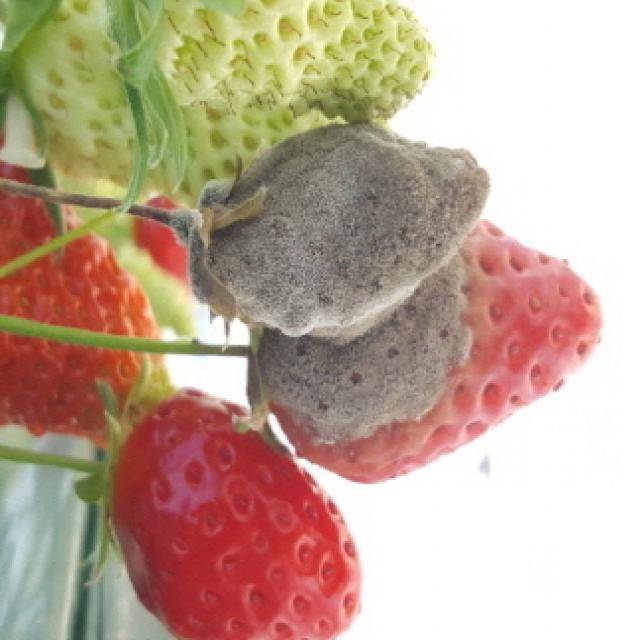Gray Mold: (160, 121, 493, 349), (233, 253, 477, 457)
